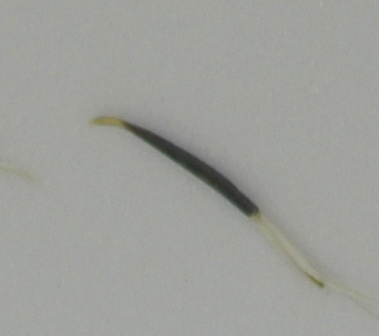เมล็ดดีเรียวยาว: (85, 114, 372, 286)
